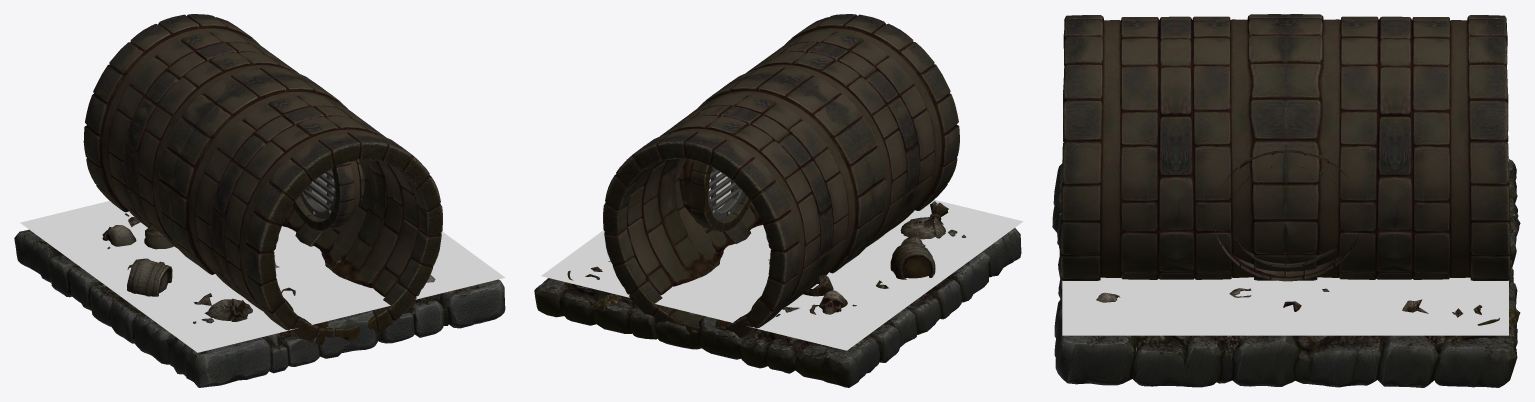
The model's file is Crawlspace_Pipe_Straight_03.fbx.
The picture shows the model from 3 angles, left to right: view 1: azimuth 30°, elevation 25°; view 2: azimuth 150°, elevation 25°; view 3: azimuth 270°, elevation 25°; orthographic projection. The views are drawn at different scales.
Parts seen in each view (by area): view 1: CrawlSpace_Pipe_Straight_03; view 2: CrawlSpace_Pipe_Straight_03; view 3: CrawlSpace_Pipe_Straight_03.
Boxes of the visible parts, left/top/right/bottom form: CrawlSpace_Pipe_Straight_03: left=14, top=14, right=505, bottom=387; CrawlSpace_Pipe_Straight_03: left=534, top=14, right=1023, bottom=387; CrawlSpace_Pipe_Straight_03: left=1052, top=14, right=1520, bottom=387.
Bounding box in the file's own units: 312 × 196 × 314.
5 materials, 3 textured.
